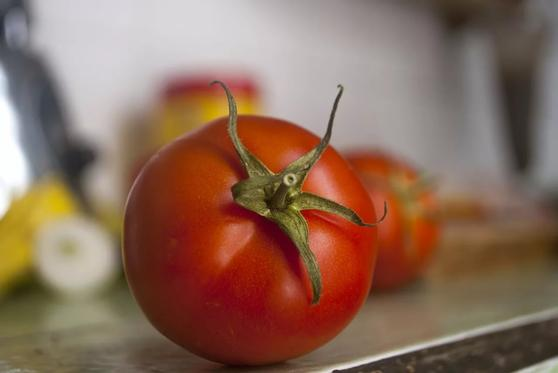tomato: (124, 116, 375, 368)
